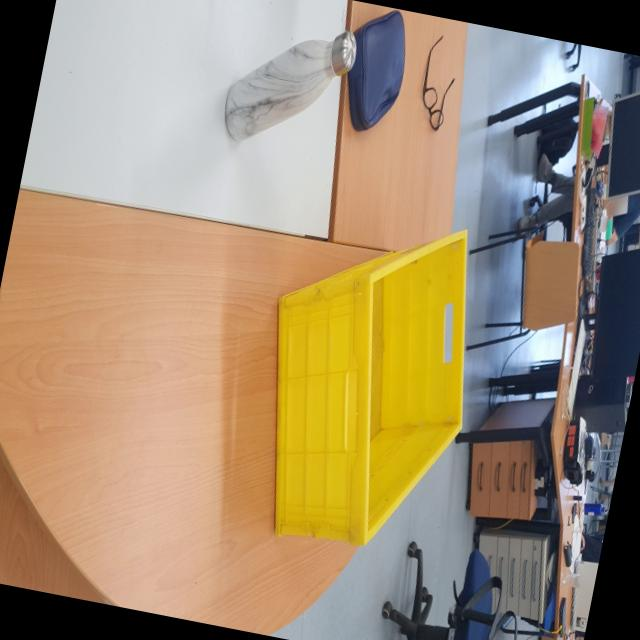box: (227, 184, 504, 589)
